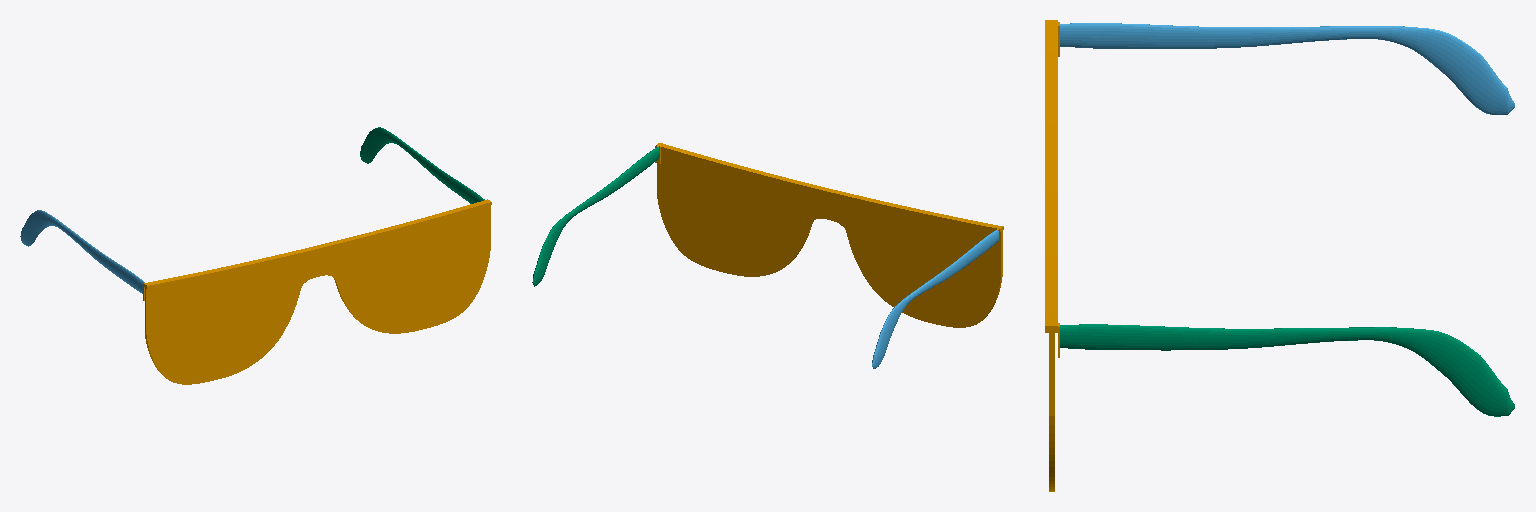
The robot description file, URDF, robot "101284":
<?xml version='1.0' encoding='utf-8'?>
<robot name="101284">
  <link name="fixed_root">
    <visual name="fixed_root_visual">
      <origin xyz="0 0 0" rpy="0 0 0" />
      <geometry>
        <mesh filename="meshes/fixed_root.obj" />
      </geometry>
    </visual>
  </link>
  <link name="link_temple_left_hinge">
    <visual name="link_temple_left_hinge_visual">
      <origin xyz="0 0 0" rpy="0 0 0" />
      <geometry>
        <mesh filename="meshes/link_temple_left_hinge.obj" />
      </geometry>
    </visual>
  </link>
  <link name="link_temple_right_hinge">
    <visual name="link_temple_right_hinge_visual">
      <origin xyz="0 0 0" rpy="0 0 0" />
      <geometry>
        <mesh filename="meshes/link_temple_right_hinge.obj" />
      </geometry>
    </visual>
  </link>
  <joint name="temple_left_hinge" type="revolute">
    <parent link="fixed_root" />
    <child link="link_temple_left_hinge" />
    <origin xyz="-0.486000001431 0.0109999999404 0.279532492161" rpy="0 -0 0" />
    <axis xyz="0 0 -1" />
    <limit lower="0" upper="1.0471975512" effort="1" velocity="1" />
  </joint>
  <joint name="temple_right_hinge" type="revolute">
    <parent link="fixed_root" />
    <child link="link_temple_right_hinge" />
    <origin xyz="0.486000001431 0.0109999999404 0.279532492161" rpy="0 -0 0" />
    <axis xyz="0 0 1" />
    <limit lower="0" upper="1.0471975512" effort="1" velocity="1" />
  </joint>
</robot>

--- Render facts (derived) ---
Views: 3 orthographic renders of the robot side by side, from view 1: azimuth 30°, elevation 25°; view 2: azimuth 150°, elevation 25°; view 3: azimuth 270°, elevation 25°.
Robot: 101284 — 3 links, 2 joints (2 revolute); root link fixed_root; default pose: all joints at 0.
Visible links, largest first — view 1: fixed_root, link_temple_left_hinge, link_temple_right_hinge; view 2: fixed_root, link_temple_right_hinge, link_temple_left_hinge; view 3: link_temple_left_hinge, link_temple_right_hinge, fixed_root.
Link boxes in pixels (left/top/right/bottom): fixed_root: left=143, top=199, right=491, bottom=384; link_temple_left_hinge: left=20, top=210, right=144, bottom=293; link_temple_right_hinge: left=360, top=127, right=484, bottom=203; fixed_root: left=655, top=143, right=1003, bottom=327; link_temple_right_hinge: left=532, top=147, right=659, bottom=286; link_temple_left_hinge: left=872, top=230, right=998, bottom=368; link_temple_left_hinge: left=1060, top=23, right=1514, bottom=114; link_temple_right_hinge: left=1060, top=324, right=1514, bottom=416; fixed_root: left=1045, top=20, right=1059, bottom=491.
Size in the robot's own frame: 1 by 0.649 by 0.3105 metres.
3 mesh visuals loaded from 3 distinct referenced files (3 OBJ).
